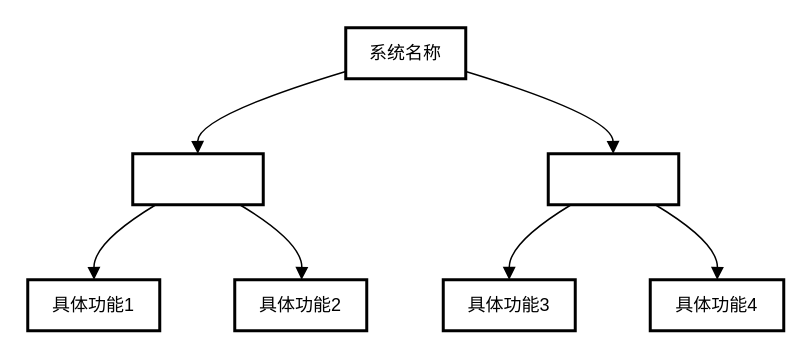
Image size: 810x357. Some labels were removed from this diagram. The centre of each missing label's shape, as x and y in pixels:
用户角色1: [197,179]
用户角色2: [613,179]
